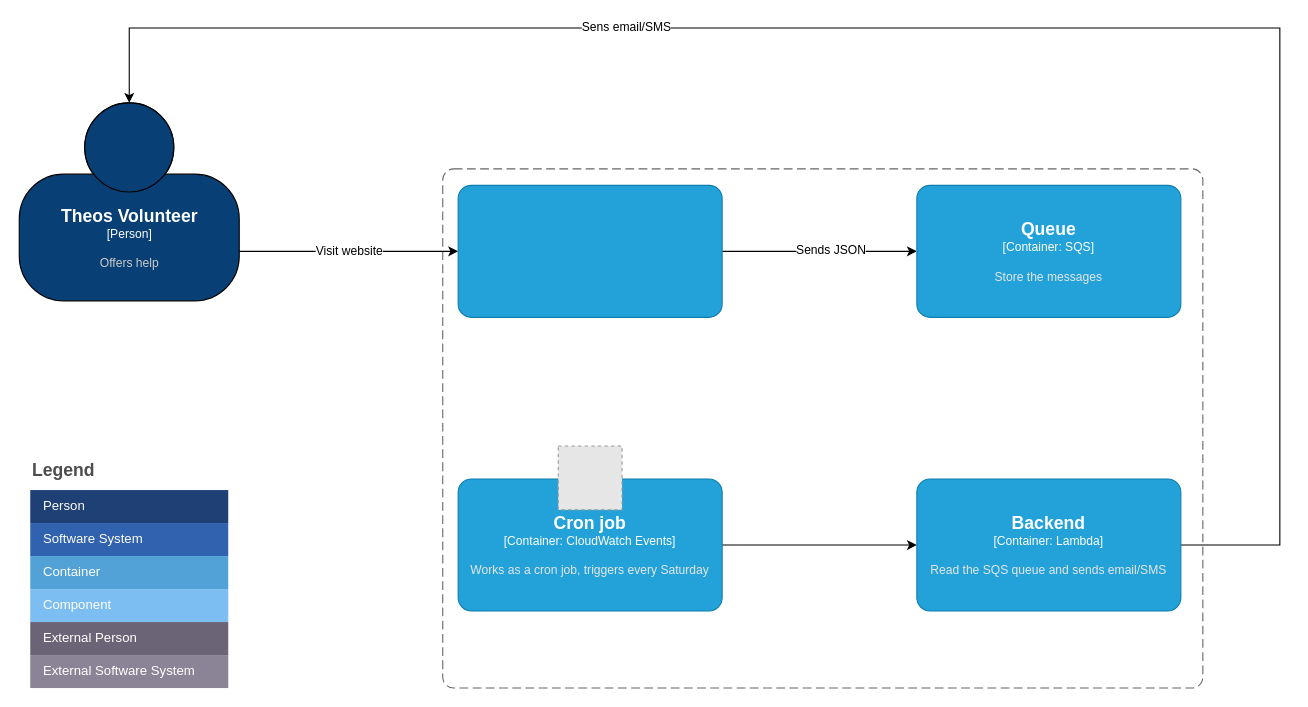
Image size: 1308x707. Some labels were removed from this diagram. Grey dashed boxes stand in for pictures. Here are the shapes that lost their labels. From the top down, the box of each, then its label:
(457, 184, 722, 317): Frontend [Container: S3 Bucket] Simple HTML to enter the food you will give
(442, 168, 1203, 688): Food Volunteering [Software System]
